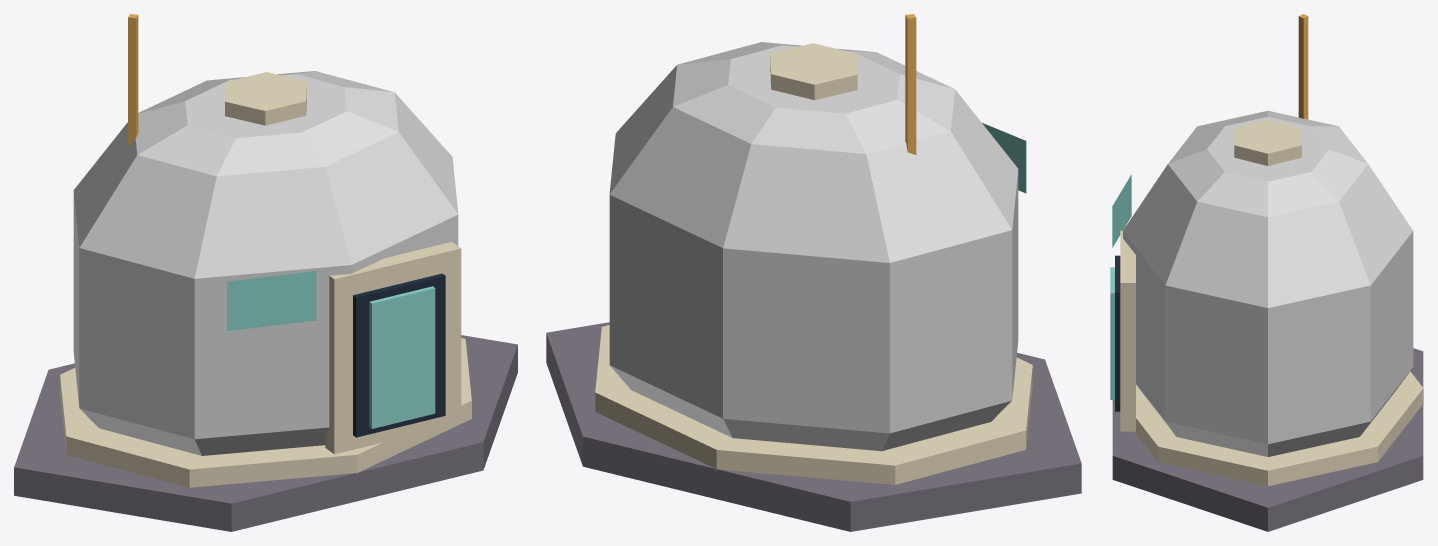
File: space_homestead.glb
3 renders of one model, left to right at view 1: azimuth 30°, elevation 25°; view 2: azimuth 150°, elevation 25°; view 3: azimuth 270°, elevation 25°, orthographic. The views are drawn at different scales.
Parts seen in each view (by area): view 1: WoodBody, FixedDetails, BrassTrim; view 2: WoodBody, FixedDetails, BrassTrim; view 3: WoodBody, FixedDetails, BrassTrim.
Part boxes in pixels (left/top/right/bottom): WoodBody: left=73, top=71, right=458, bottom=455; FixedDetails: left=14, top=242, right=517, bottom=531; BrassTrim: left=128, top=14, right=306, bottom=146; WoodBody: left=609, top=42, right=1018, bottom=451; FixedDetails: left=546, top=123, right=1081, bottom=531; BrassTrim: left=770, top=14, right=916, bottom=154; WoodBody: left=1123, top=110, right=1413, bottom=456; FixedDetails: left=1110, top=174, right=1423, bottom=531; BrassTrim: left=1234, top=14, right=1308, bottom=165.
Bounding box in the file's own units: 0.25 × 0.204 × 0.1585.
